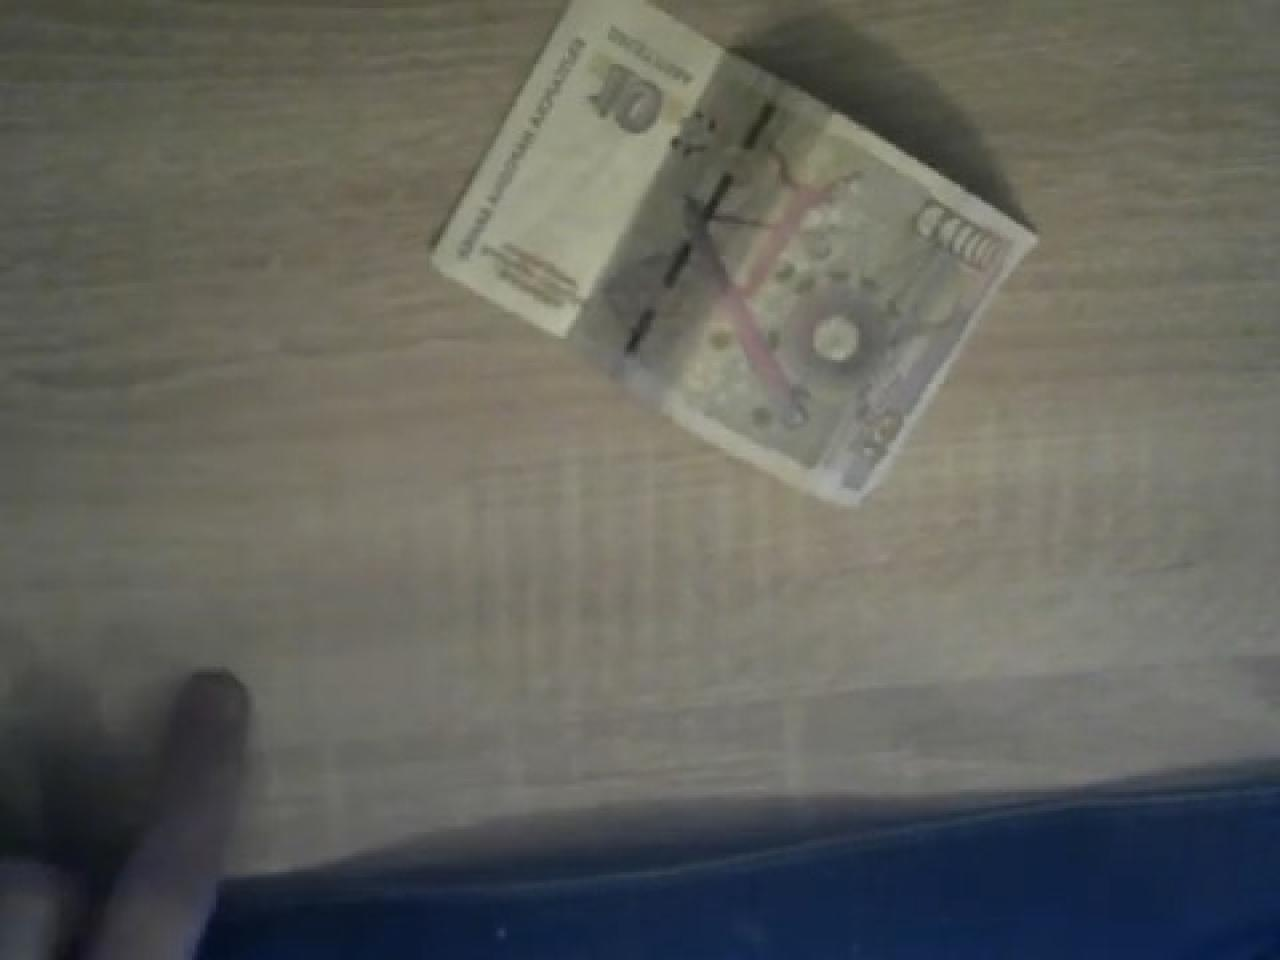10leva: (429, 0, 1037, 504)
